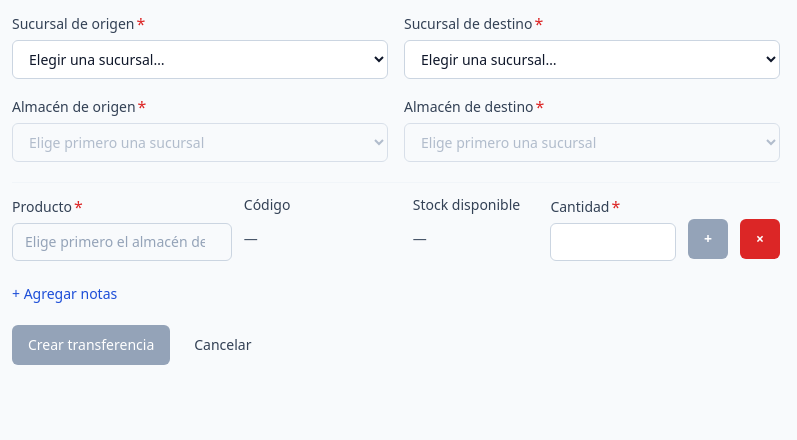
Test: TransferForm › picking a hit fills the line with its code and available stock (no variant drop-down)
Select "Sucursal Central" in the dropdown labelled "Sucursal de origen" at [200, 60], box [12,40,388,79]
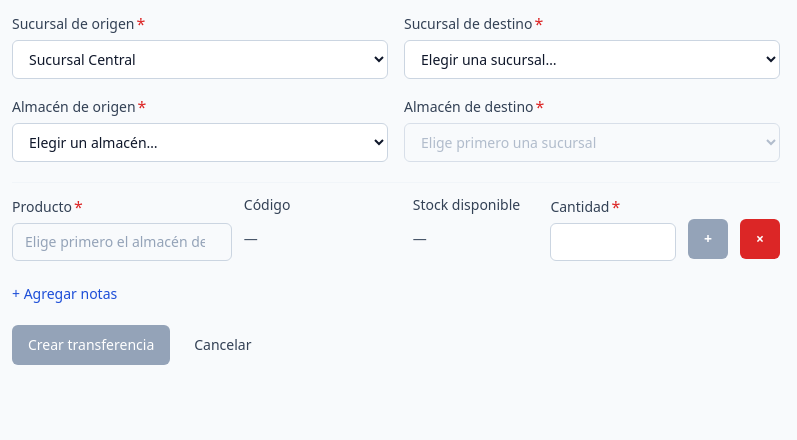
Select "Central / General" in the dropdown labelled "Almacén de origen" at [200, 142], box [12,123,388,162]
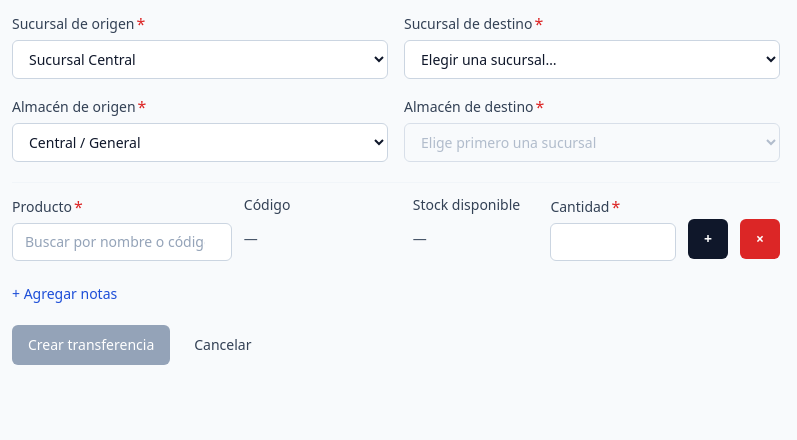
Type "blen" into the search field labelled "Producto" at [122, 242], box [12,223,232,261]
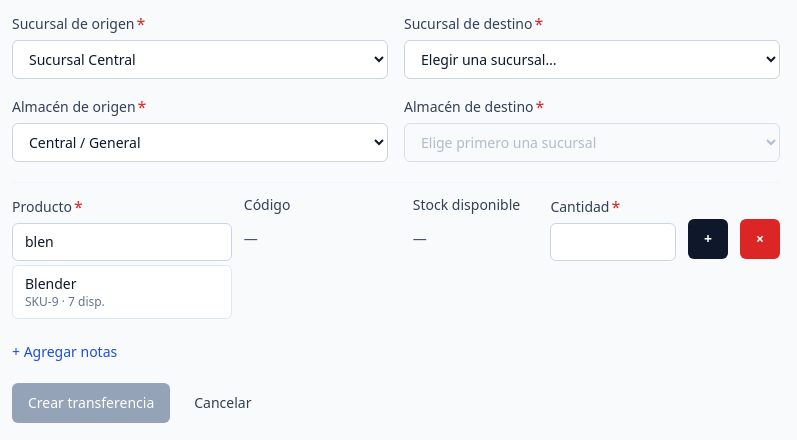
Click the button "Blender SKU-9 · 7 disp." at [122, 292], box [13,266,231,318]
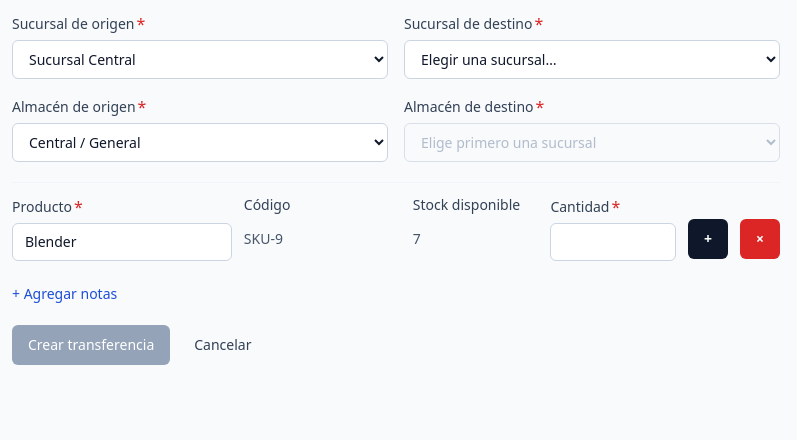
Expected: the text "7" is shown, [413,229,421,249]
Expected: the search field labelled "Producto" holds "Blender", [12,223,232,261]
Expected: the text "SKU-9" is shown, [244,229,283,248]
